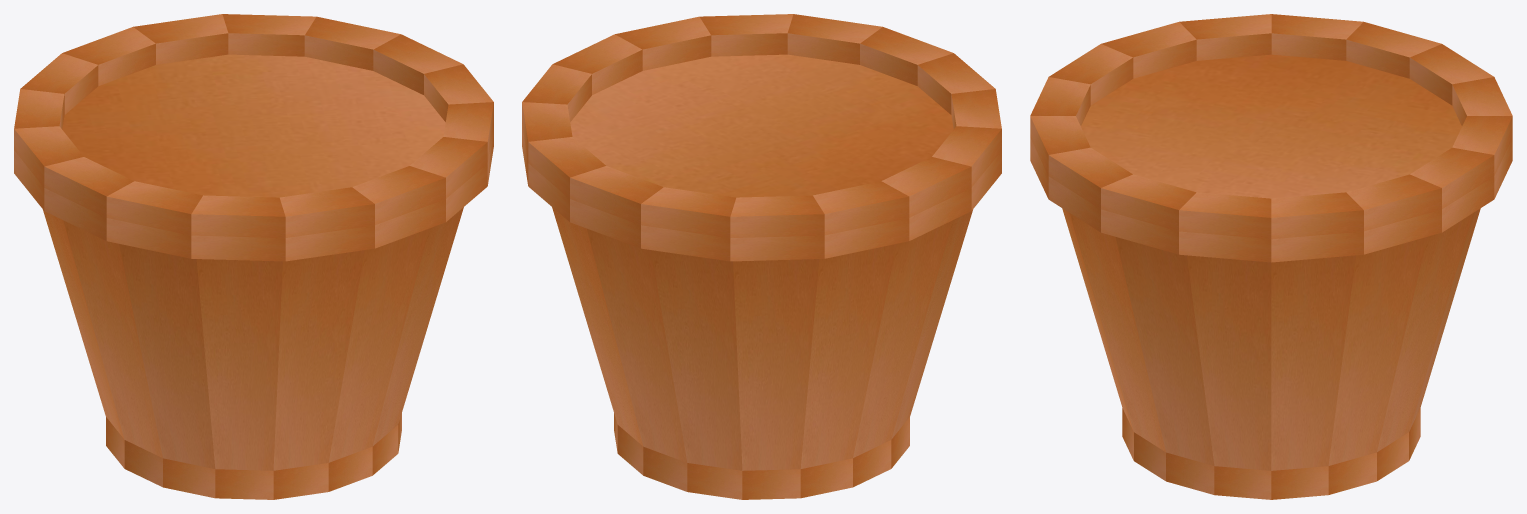
The model's file is pot.gltf.
3 renders of one model, left to right at view 1: azimuth 30°, elevation 25°; view 2: azimuth 150°, elevation 25°; view 3: azimuth 270°, elevation 25°, orthographic.
Visible parts, largest first — view 1: Pot; view 2: Pot; view 3: Pot.
Boxes of the visible parts, x1,y1,x2,y2 form: Pot: (14,14,493,499); Pot: (522,14,1001,499); Pot: (1030,14,1512,499).
Size of the model in its own units: 1.72 by 1.26 by 1.72.
Materials: 1 (1 with a texture image).
